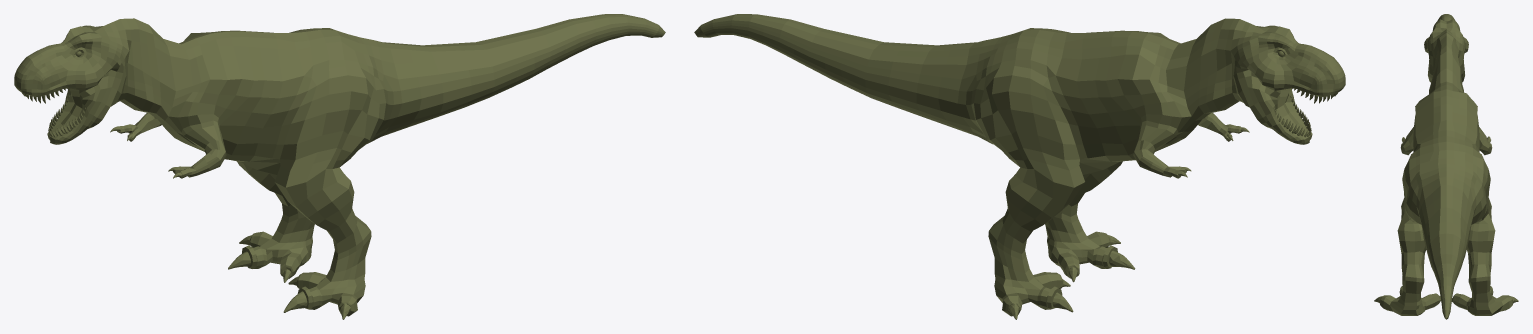
File: Dino.fbx
3 views of the same model, side by side, from view 1: azimuth 30°, elevation 25°; view 2: azimuth 150°, elevation 25°; view 3: azimuth 270°, elevation 25° (orthographic). The views are drawn at different scales.
Parts seen in each view (by area): view 1: TRex; view 2: TRex; view 3: TRex.
Part boxes in pixels (left/top/right/bottom): TRex: left=14, top=14, right=665, bottom=319; TRex: left=694, top=14, right=1345, bottom=319; TRex: left=1374, top=14, right=1518, bottom=319.
Bounding box in the file's own units: 542 × 248 × 151.
